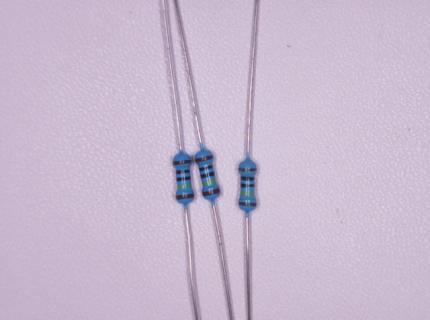Black band: (198, 164, 214, 172), (200, 171, 215, 179), (175, 169, 190, 175), (176, 176, 191, 182), (240, 183, 255, 188), (241, 175, 255, 180)
Brown band: (202, 187, 220, 196), (176, 192, 195, 200), (195, 155, 213, 163), (172, 160, 192, 166), (238, 167, 257, 173), (239, 202, 257, 207)
Yellow band: (202, 178, 217, 186), (176, 183, 192, 190), (240, 190, 255, 195)
